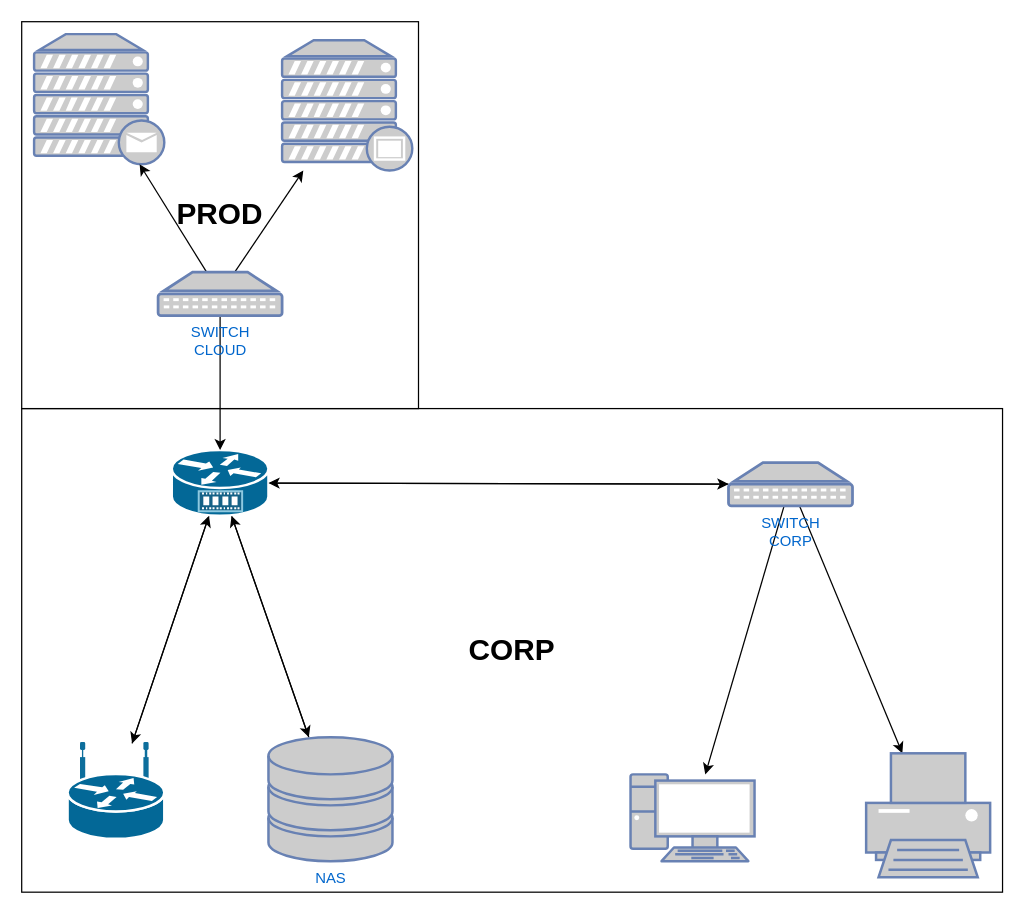
Some shapes in this 1024 by 914 pixel diagram are drawn without their labels. Here are the shapes that lost their labels. From the top down, the centre of each, then its label:
(219,482): OPNSENSE
(115,790): WIFI ROUTER
